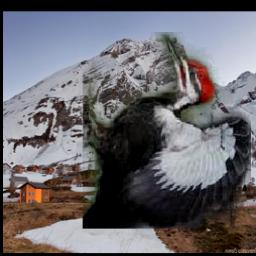Woodpecker: (82, 32, 250, 229)
